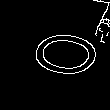O_E: (9, 26, 101, 84)
